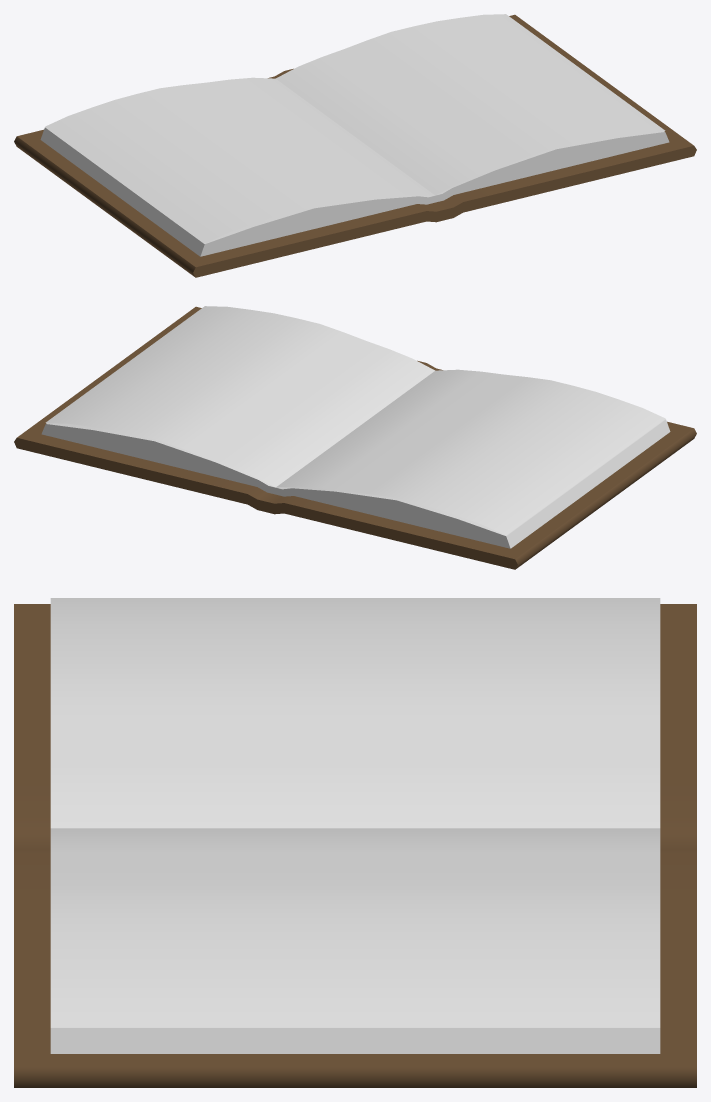
The model's file is book.fbx.
3 renders of one model, top to bottom at view 1: azimuth 30°, elevation 25°; view 2: azimuth 150°, elevation 25°; view 3: azimuth 270°, elevation 25°, orthographic. The views are drawn at different scales.
Visible parts, largest first — view 1: pPlane4, pPlane3, pCube1; view 2: pPlane4, pPlane3, pCube1; view 3: pPlane3, pPlane4, pCube1.
Part boxes in pixels (<box>): pPlane4: <box>276,14,665,195</box>; pPlane3: <box>45,77,434,243</box>; pCube1: <box>14,14,696,277</box>; pPlane4: <box>45,306,434,487</box>; pPlane3: <box>276,369,665,535</box>; pCube1: <box>14,306,696,569</box>; pPlane3: <box>50,598,660,828</box>; pPlane4: <box>50,828,660,1027</box>; pCube1: <box>14,604,696,1087</box>.
Size of the model in its own units: 4.37 by 0.2987 by 2.69.
